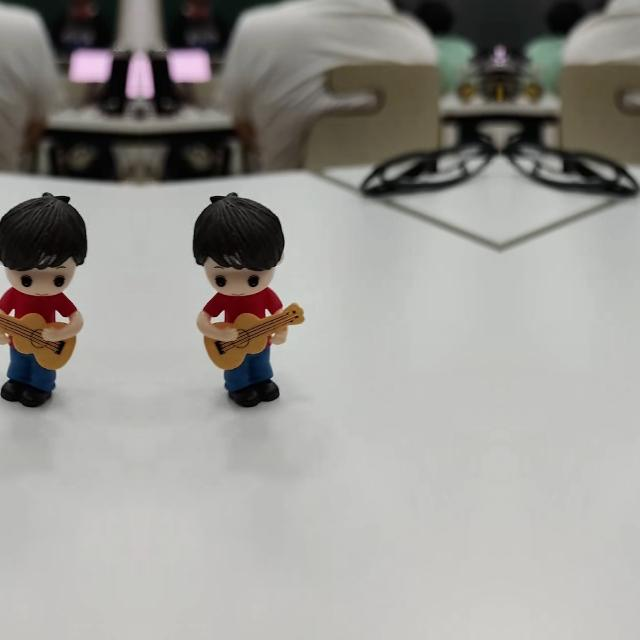man cloth: (204, 293, 282, 319), (0, 293, 76, 319)
man head: (194, 189, 286, 293), (0, 189, 85, 293)
trousers: (222, 342, 280, 408), (0, 342, 58, 408)
